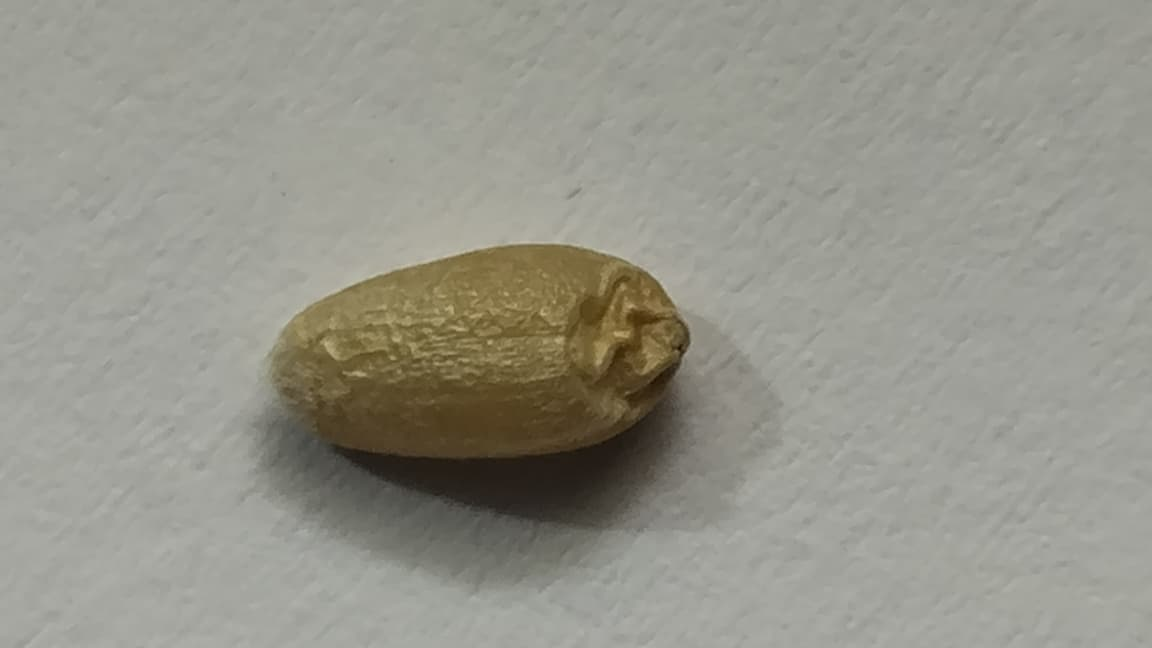healthy: (269, 243, 688, 455)
